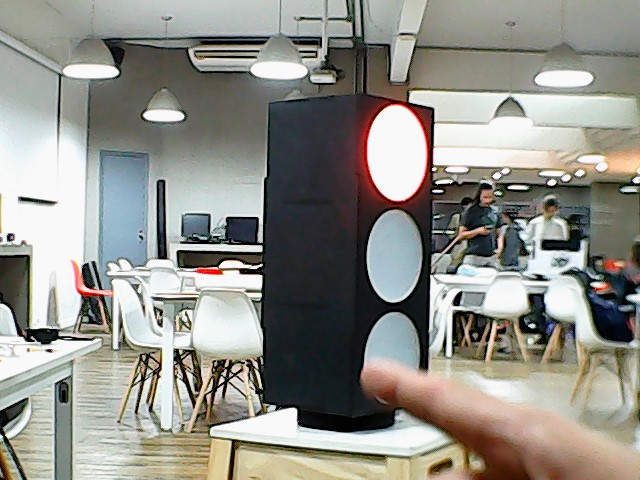vermelho: (254, 86, 440, 422)
